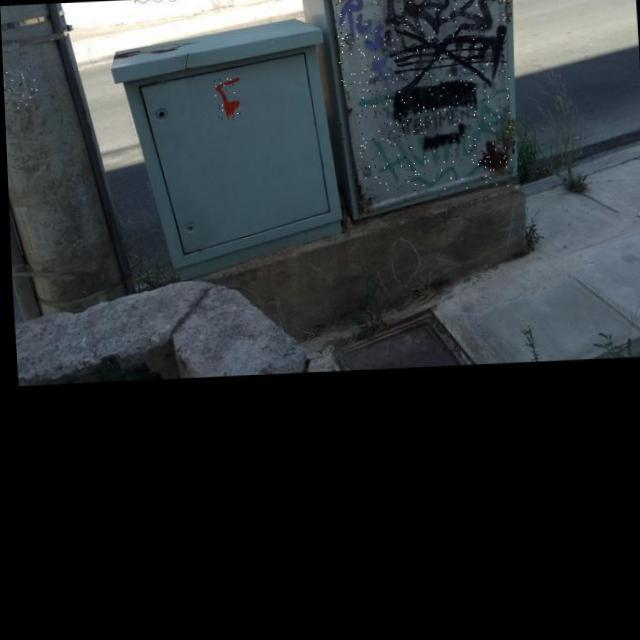-: (353, 84, 512, 196), (340, 0, 509, 88), (333, 0, 397, 89), (382, 108, 478, 141), (2, 63, 38, 110), (212, 79, 242, 121)
